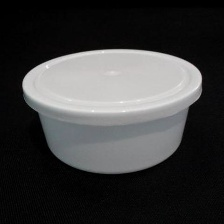plastic_box: (16, 40, 208, 182)
